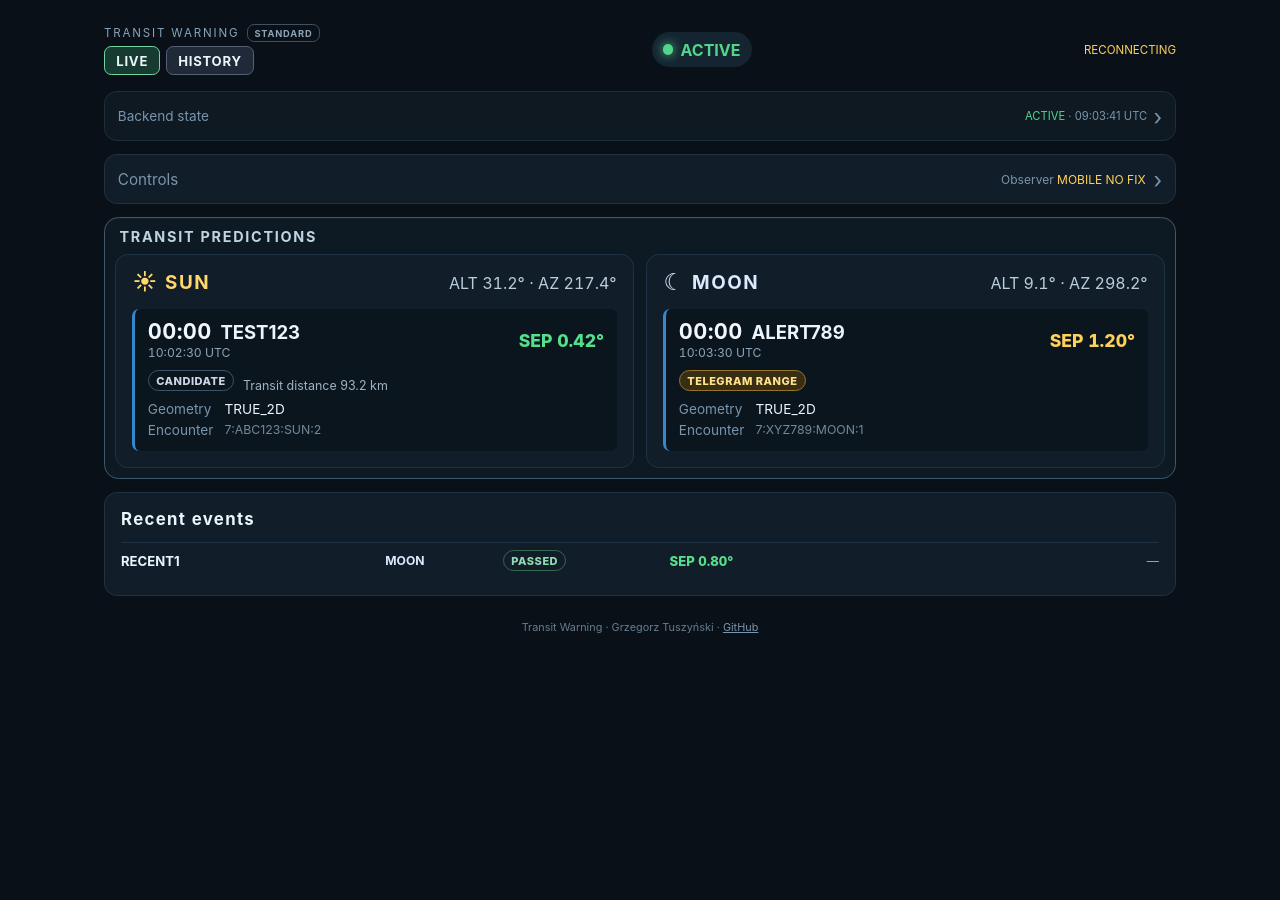
Test: STANDARD final controls › keeps authoritative MOBILE_NO_FIX concise while collapsed
Expected: the element with id "controls-observer-summary" reads "Observer MOBILE NO FIX", x1=1001 y1=172 x2=1146 y2=187
Click the button "Controls Observer MOBILE NO FIX ›" at (148, 179), box x1=105 y1=155 x2=1175 y2=203
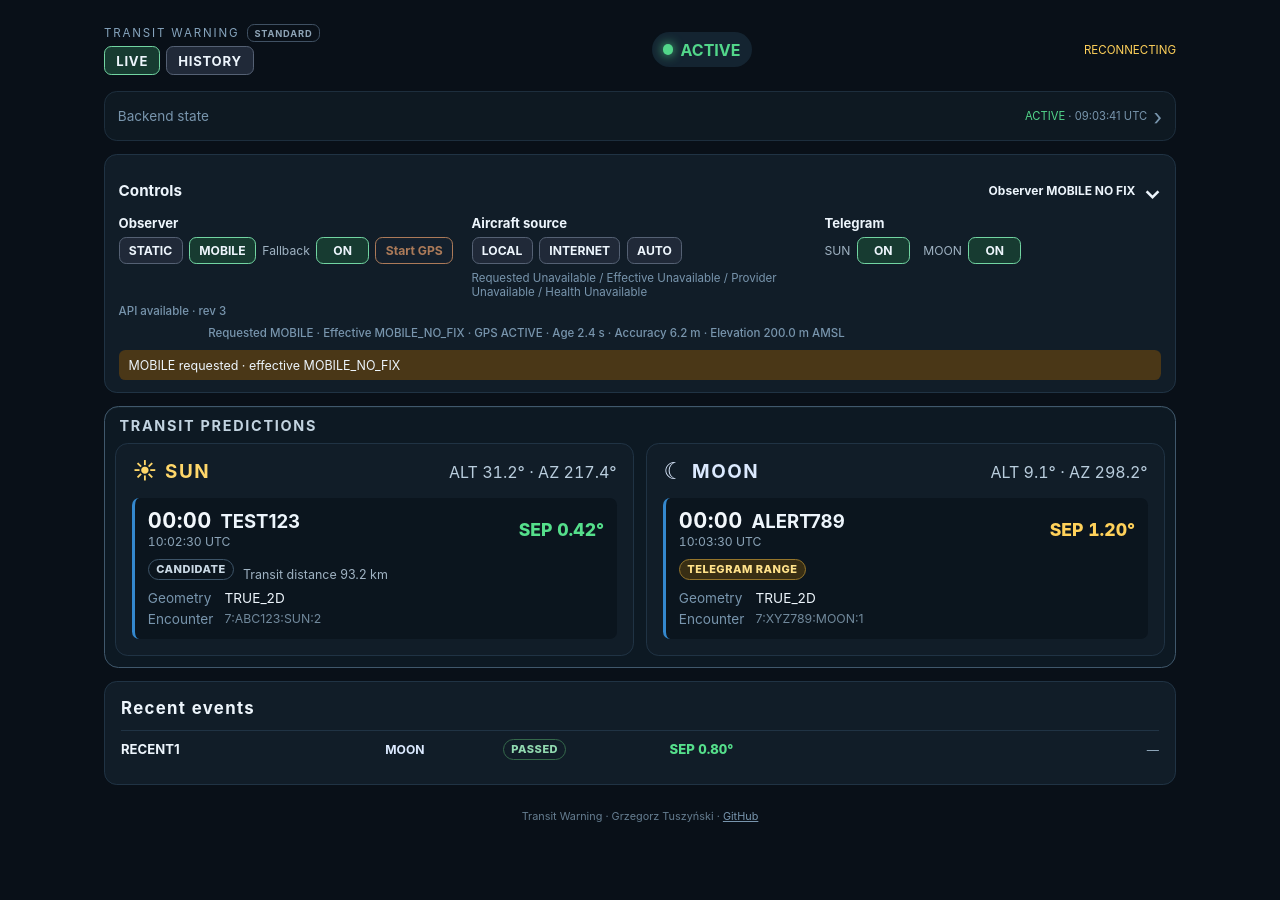
Now the button "Start GPS" is shown, box x1=376 y1=237 x2=453 y2=264
